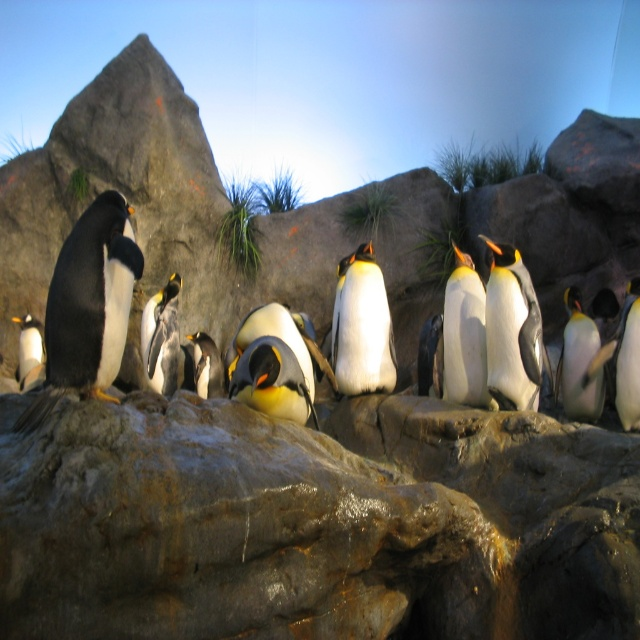Penguin: (40, 179, 146, 408), (476, 230, 545, 423), (333, 236, 404, 399), (441, 234, 499, 402), (580, 277, 640, 431), (232, 326, 315, 436), (549, 282, 608, 428), (136, 274, 186, 401), (9, 310, 46, 393), (414, 311, 444, 394), (183, 327, 218, 397)
